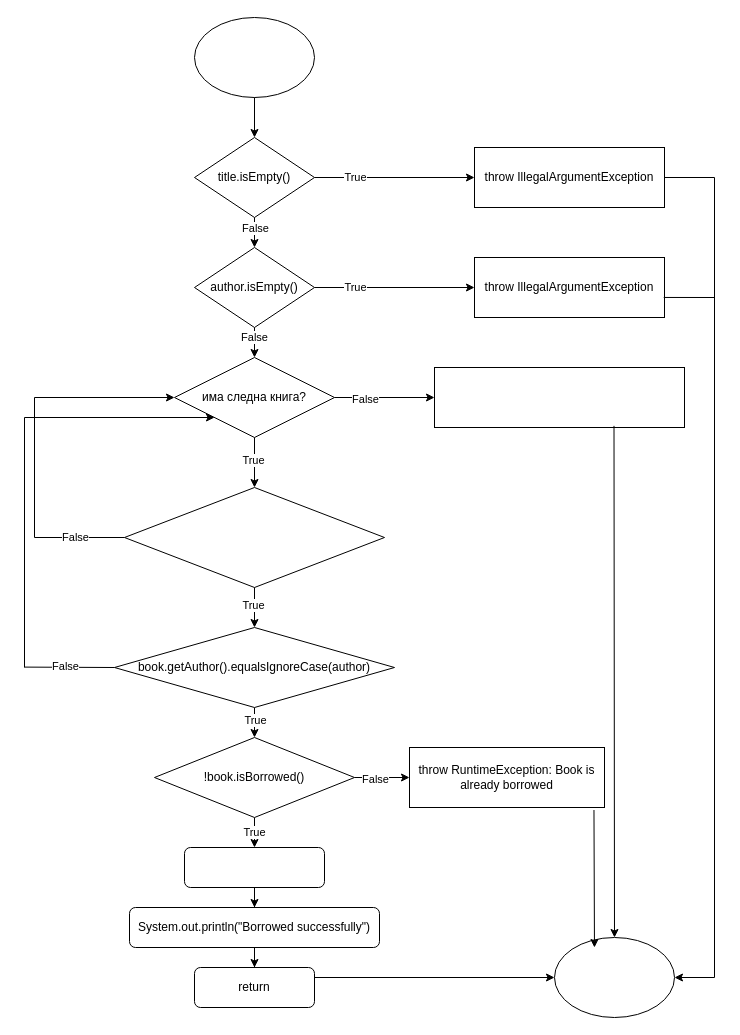
This 740x1035 diagram has some shape labels left out. Here are the shapes that lost their labels. From the top down, the centre of each, then its label:
the point at 254,57: START
the point at 559,397: throw RuntimeException: Book not found
the point at 254,537: book.getTitle().equalsIgnoreCase(title)
the point at 254,867: book.setBorrowed(true)
the point at 614,977: END
